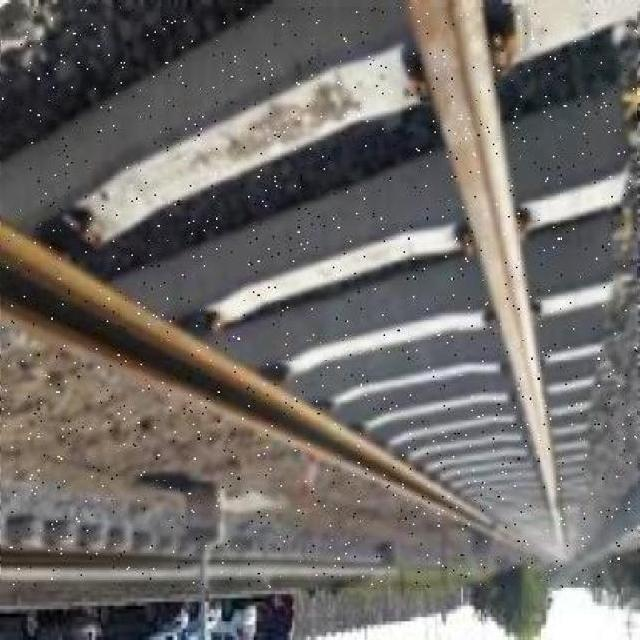rail: (2, 9, 637, 587)
